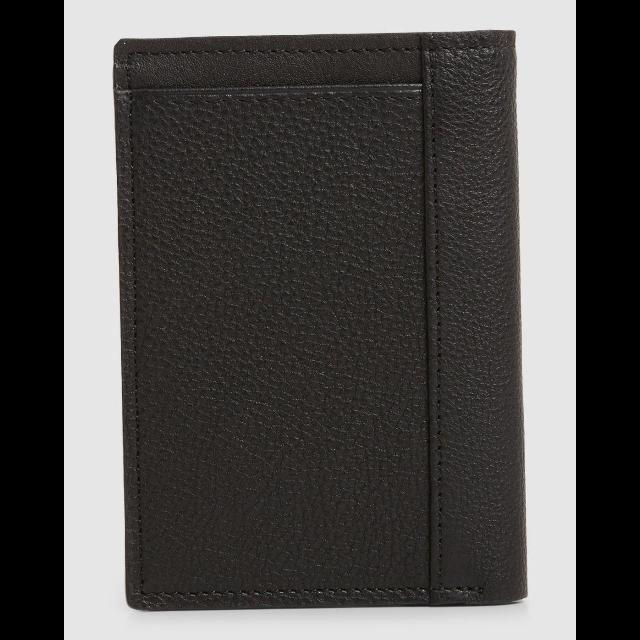Wallet: (111, 31, 523, 609)
